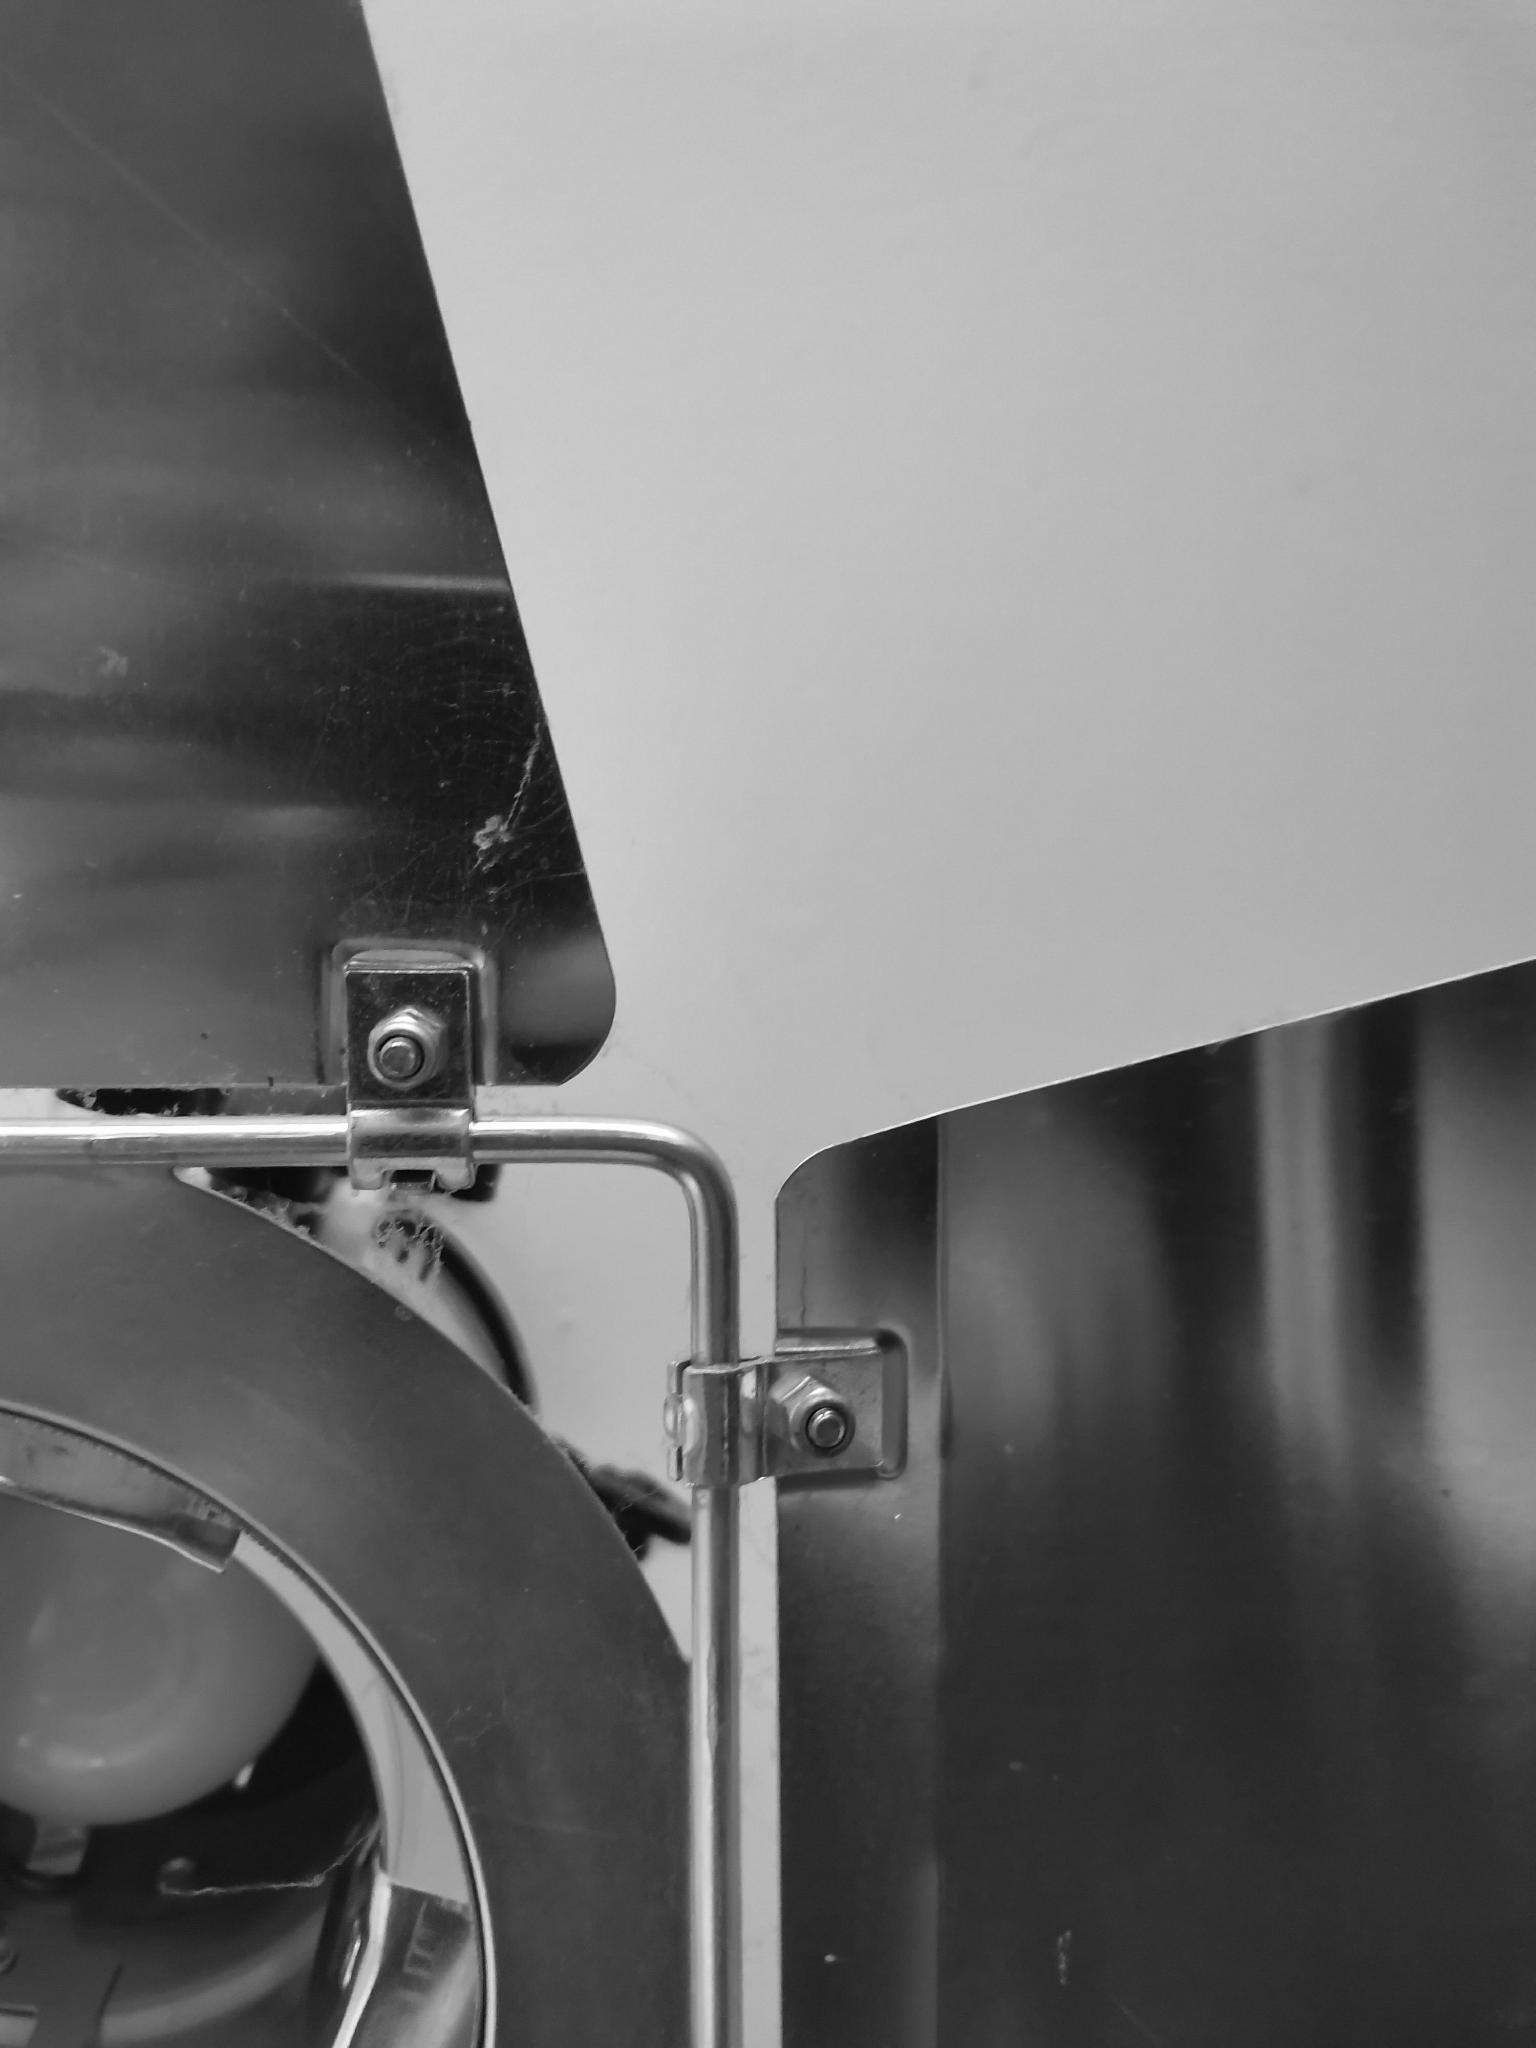hexagonal: (360, 1001, 458, 1095), (781, 1379, 871, 1476)
